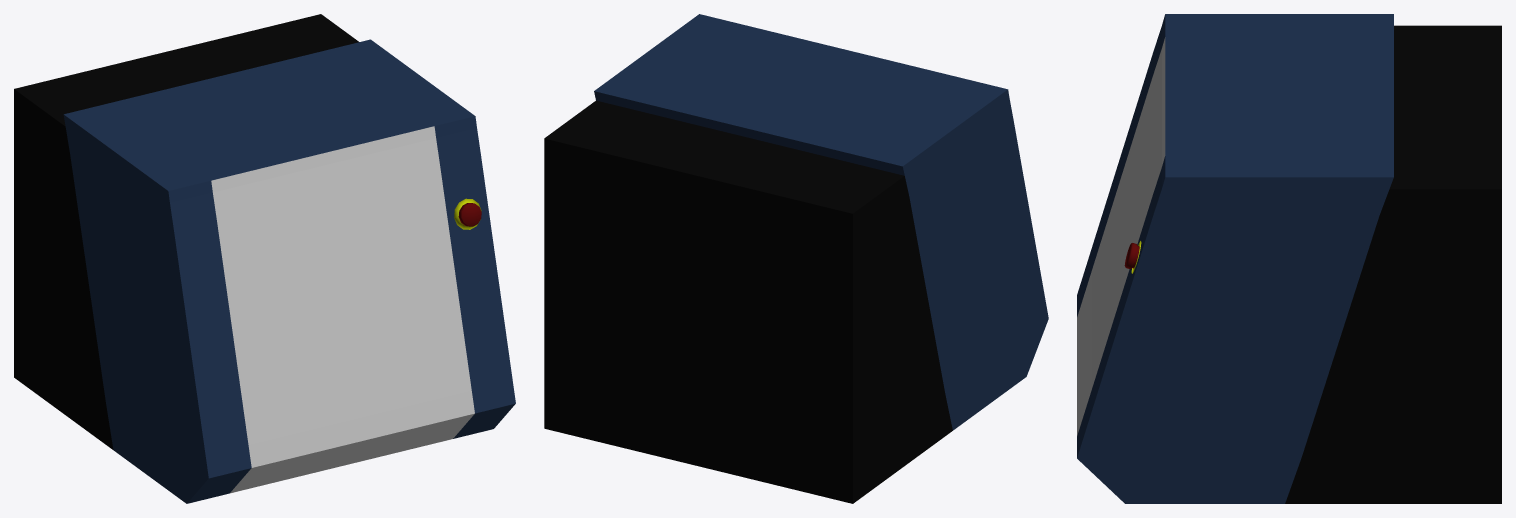
The model's file is millmachine.obj.
3 renders of one model, left to right at view 1: azimuth 30°, elevation 25°; view 2: azimuth 150°, elevation 25°; view 3: azimuth 270°, elevation 25°, orthographic. The views are drawn at different scales.
Parts seen in each view (by area): view 1: Box001, millMcFront, Cylinder001; view 2: Box001; view 3: Box001, millMcFront.
Boxes of the visible parts, x1,y1,x2,y2 form: Box001: [14, 14, 515, 503]; millMcFront: [211, 126, 474, 493]; Cylinder001: [454, 198, 481, 229]; Box001: [544, 14, 1048, 503]; Box001: [1077, 14, 1501, 503]; millMcFront: [1077, 37, 1165, 435].
Size of the model in its own units: 80.04 by 74.57 by 87.96.
